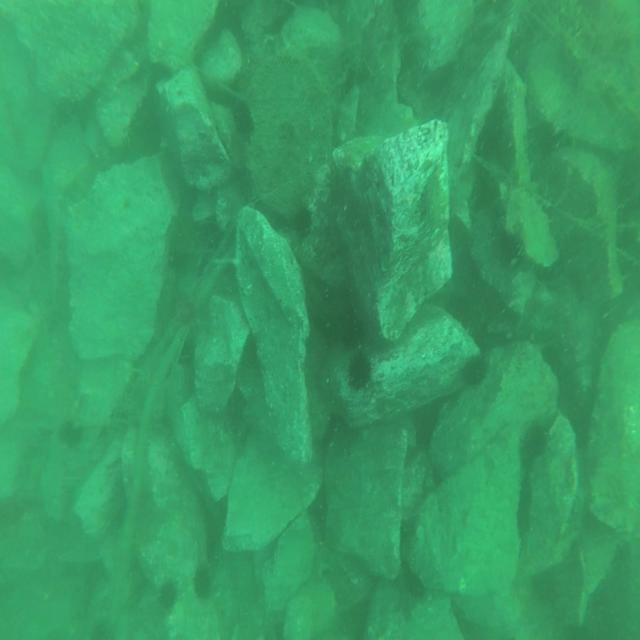echinus: (58, 415, 82, 451), (349, 353, 372, 387), (463, 356, 487, 388), (159, 578, 178, 614), (233, 102, 253, 136), (193, 564, 209, 602), (295, 204, 313, 237)
